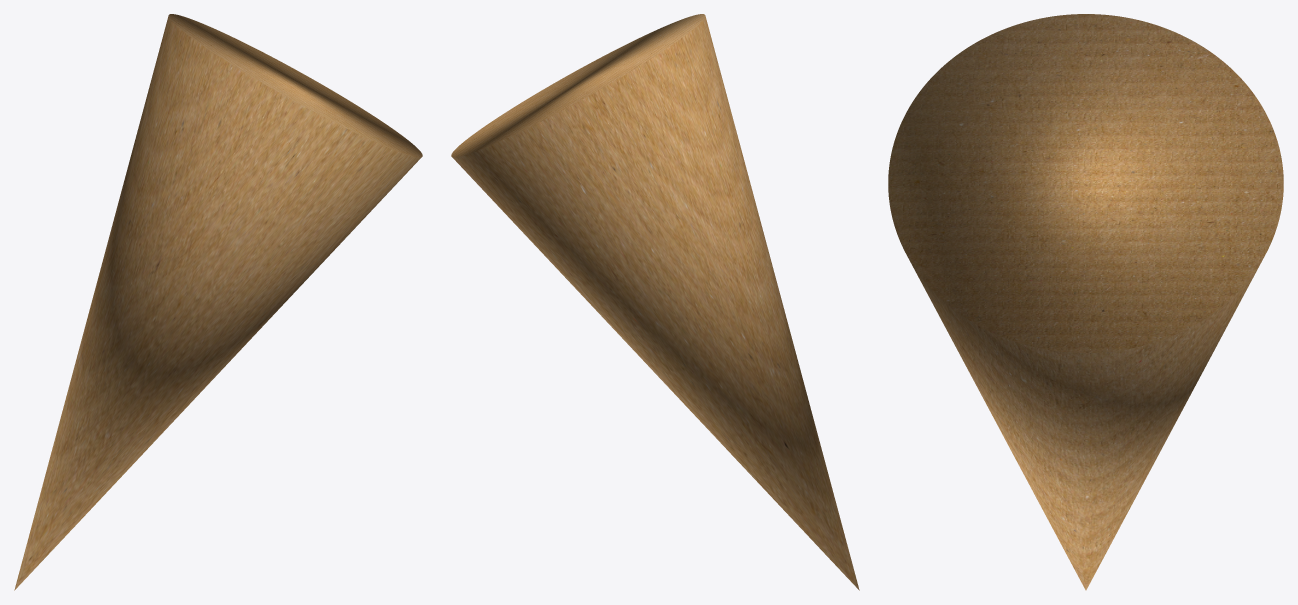
The model's file is cursor.obj.
The picture shows the model from 3 angles, left to right: view 1: azimuth 30°, elevation 25°; view 2: azimuth 150°, elevation 25°; view 3: azimuth 270°, elevation 25°; orthographic projection. The views are drawn at different scales.
Visible parts, largest first — view 1: Cone; view 2: Cone; view 3: Cone.
Part boxes in pixels (box(x1,y1,x2,y2)): Cone: box(14, 14, 422, 590); Cone: box(451, 14, 859, 590); Cone: box(888, 14, 1283, 590).
Bounding box in the file's own units: 0.3679 × 0.465 × 0.24.
Materials: 1 (1 with a texture image).
